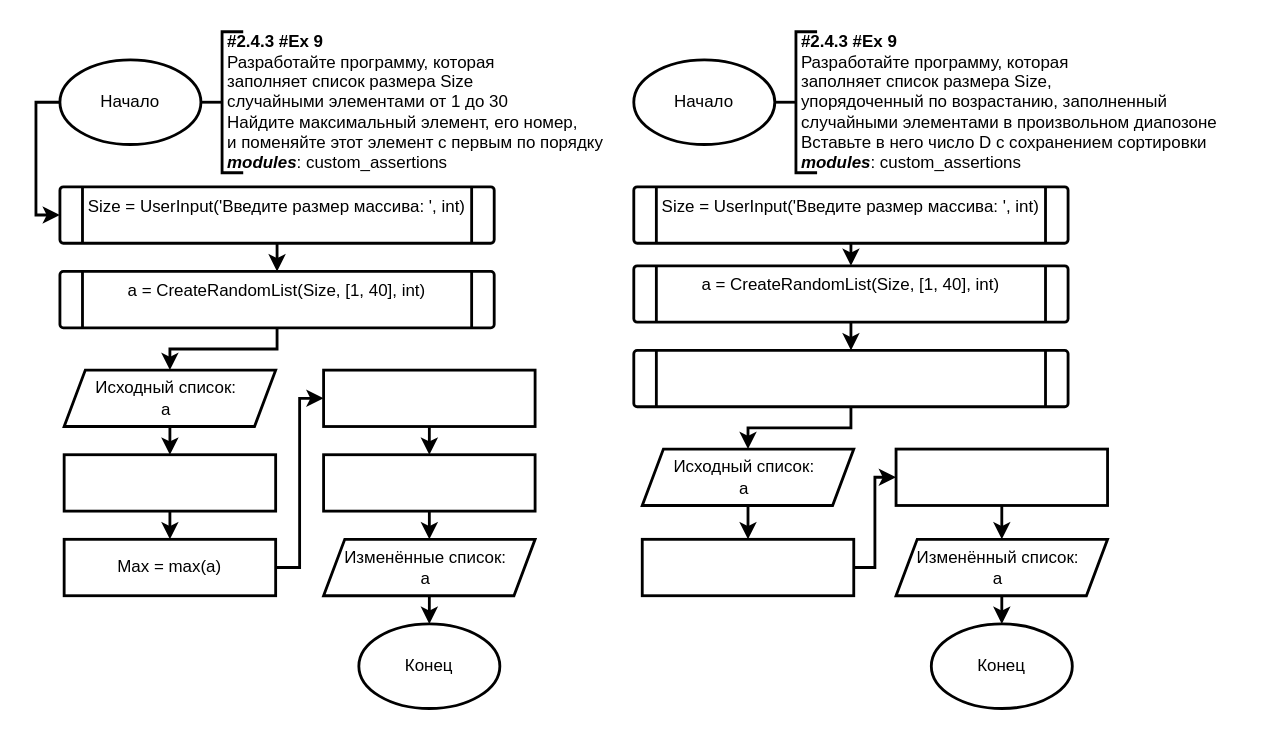
Image size: 1273x733. Some labels were removed from this diagram. Each missing label, with the centre of its shape:
a = sorted(a): point (1001, 476)
a.append(D): point (747, 566)
a[Max_idx] = First: point (428, 482)
D = UserInput('Введите число D: ', int): point (850, 377)
First = a[0]: point (169, 482)
Max_idx = a.index(Max): point (428, 397)
